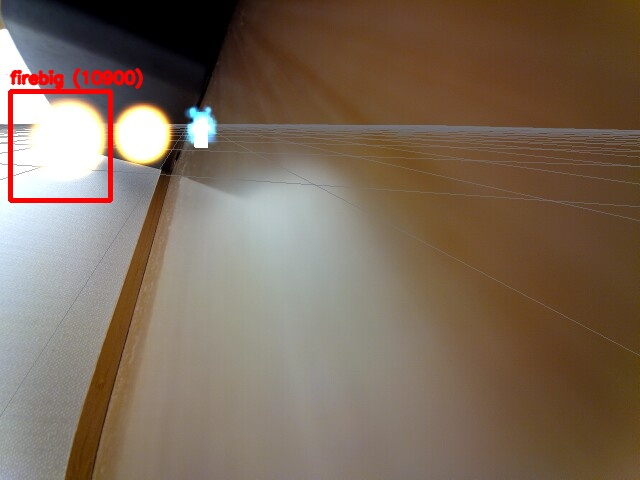firebig: (10, 91, 110, 200)
